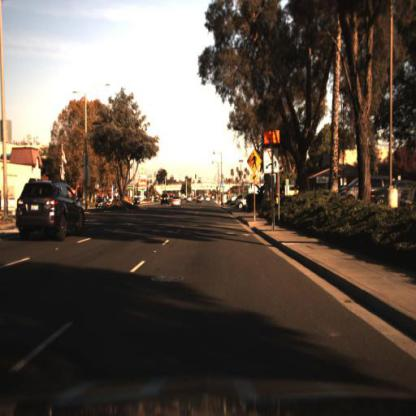car: (15, 178, 86, 240), (334, 172, 398, 204), (169, 192, 180, 208), (171, 193, 182, 209), (106, 194, 116, 210), (132, 196, 142, 208), (159, 192, 168, 204)
